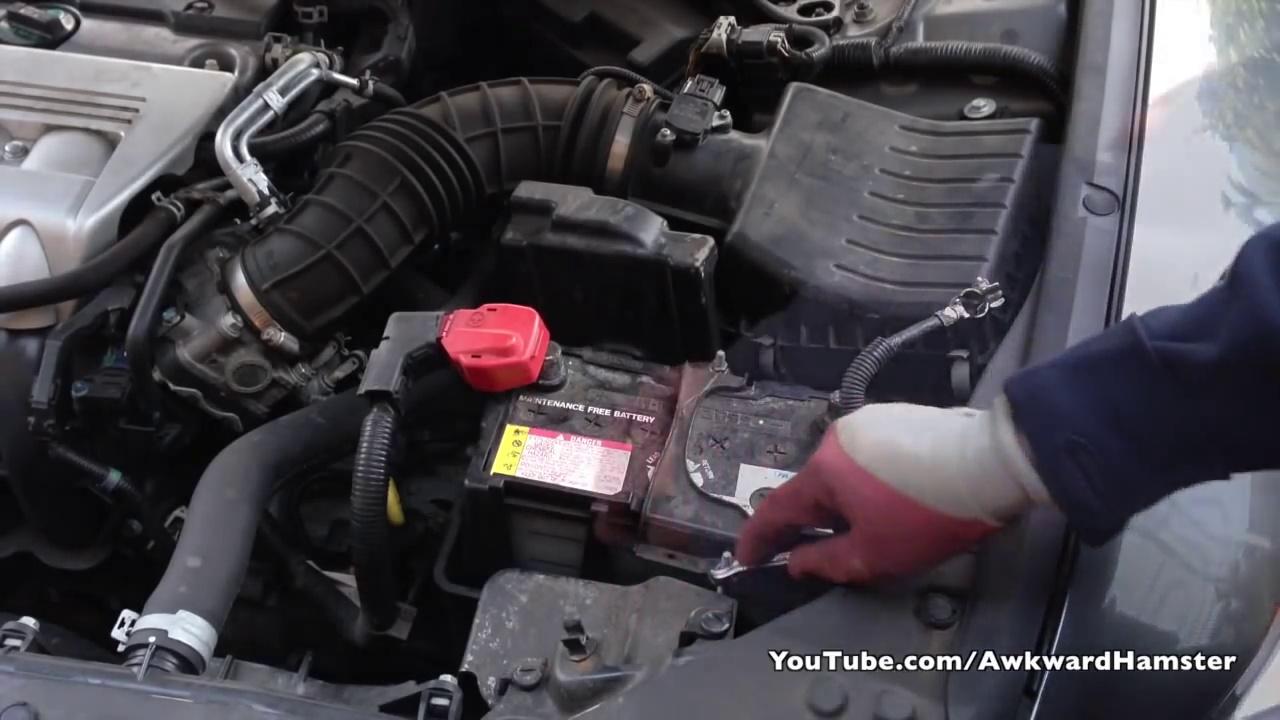battery: (465, 307, 888, 552)
neg_touched: (790, 358, 906, 517)
pos_connected: (398, 284, 575, 406)
